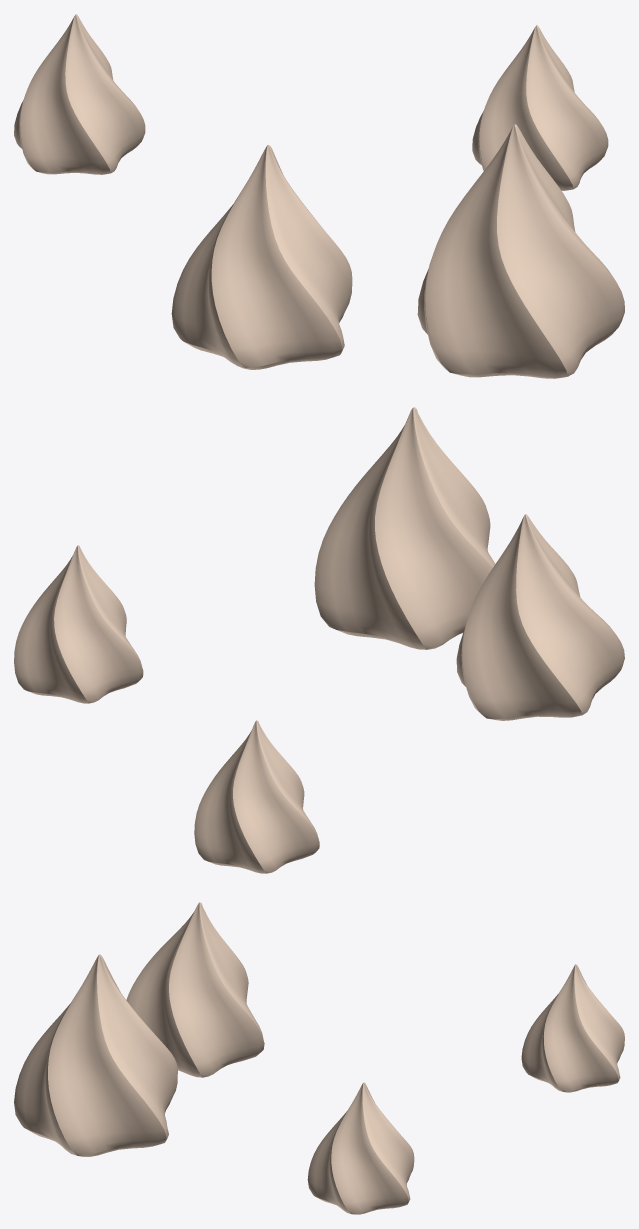
Rendered from DecoMeringue.glb.
3 views of the same model, one above another, from view 1: azimuth 30°, elevation 25°; view 2: azimuth 150°, elevation 25°; view 3: azimuth 270°, elevation 25° (orthographic). The views are drawn at different scales.
Visible parts, largest first — view 1: Star.025, Star.027, Star, Star.026; view 2: Star.025, Star.027, Star.026, Star; view 3: Star.025, Star.027, Star.026, Star.
Boxes of the visible parts, box(x1,y1,x2,y2) form: Star.025: box(417, 124, 624, 378); Star.027: box(171, 145, 352, 369); Star: box(14, 14, 145, 174); Star.026: box(472, 25, 608, 190); Star.025: box(314, 407, 495, 649); Star.027: box(456, 514, 624, 720); Star.026: box(14, 545, 143, 703); Star: box(194, 720, 319, 873); Star.025: box(14, 954, 177, 1156); Star.027: box(126, 902, 264, 1077); Star.026: box(307, 1082, 414, 1214); Star: box(521, 964, 624, 1092).
Bounding box in the file's own units: 0.9928 × 0.4232 × 1.32.
